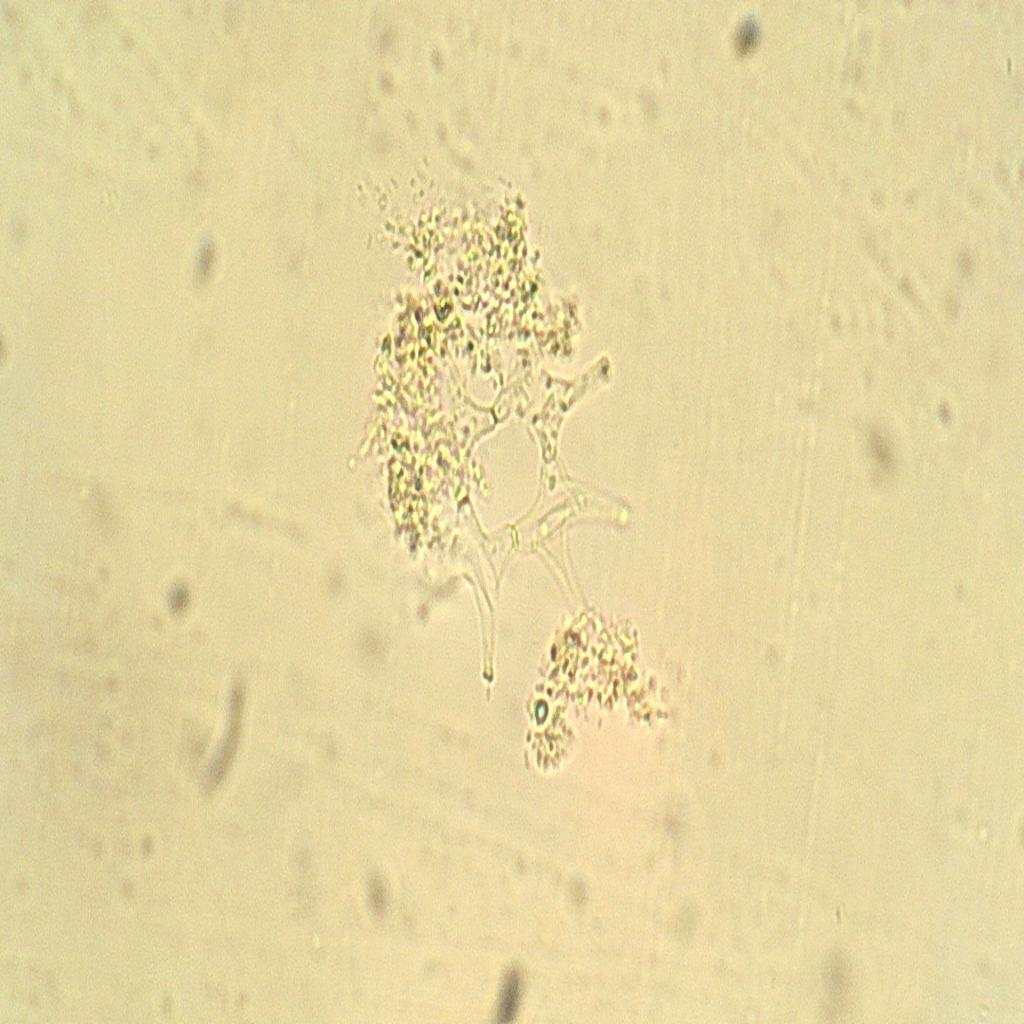Pediastrum_1F0: (360, 236, 642, 697)
